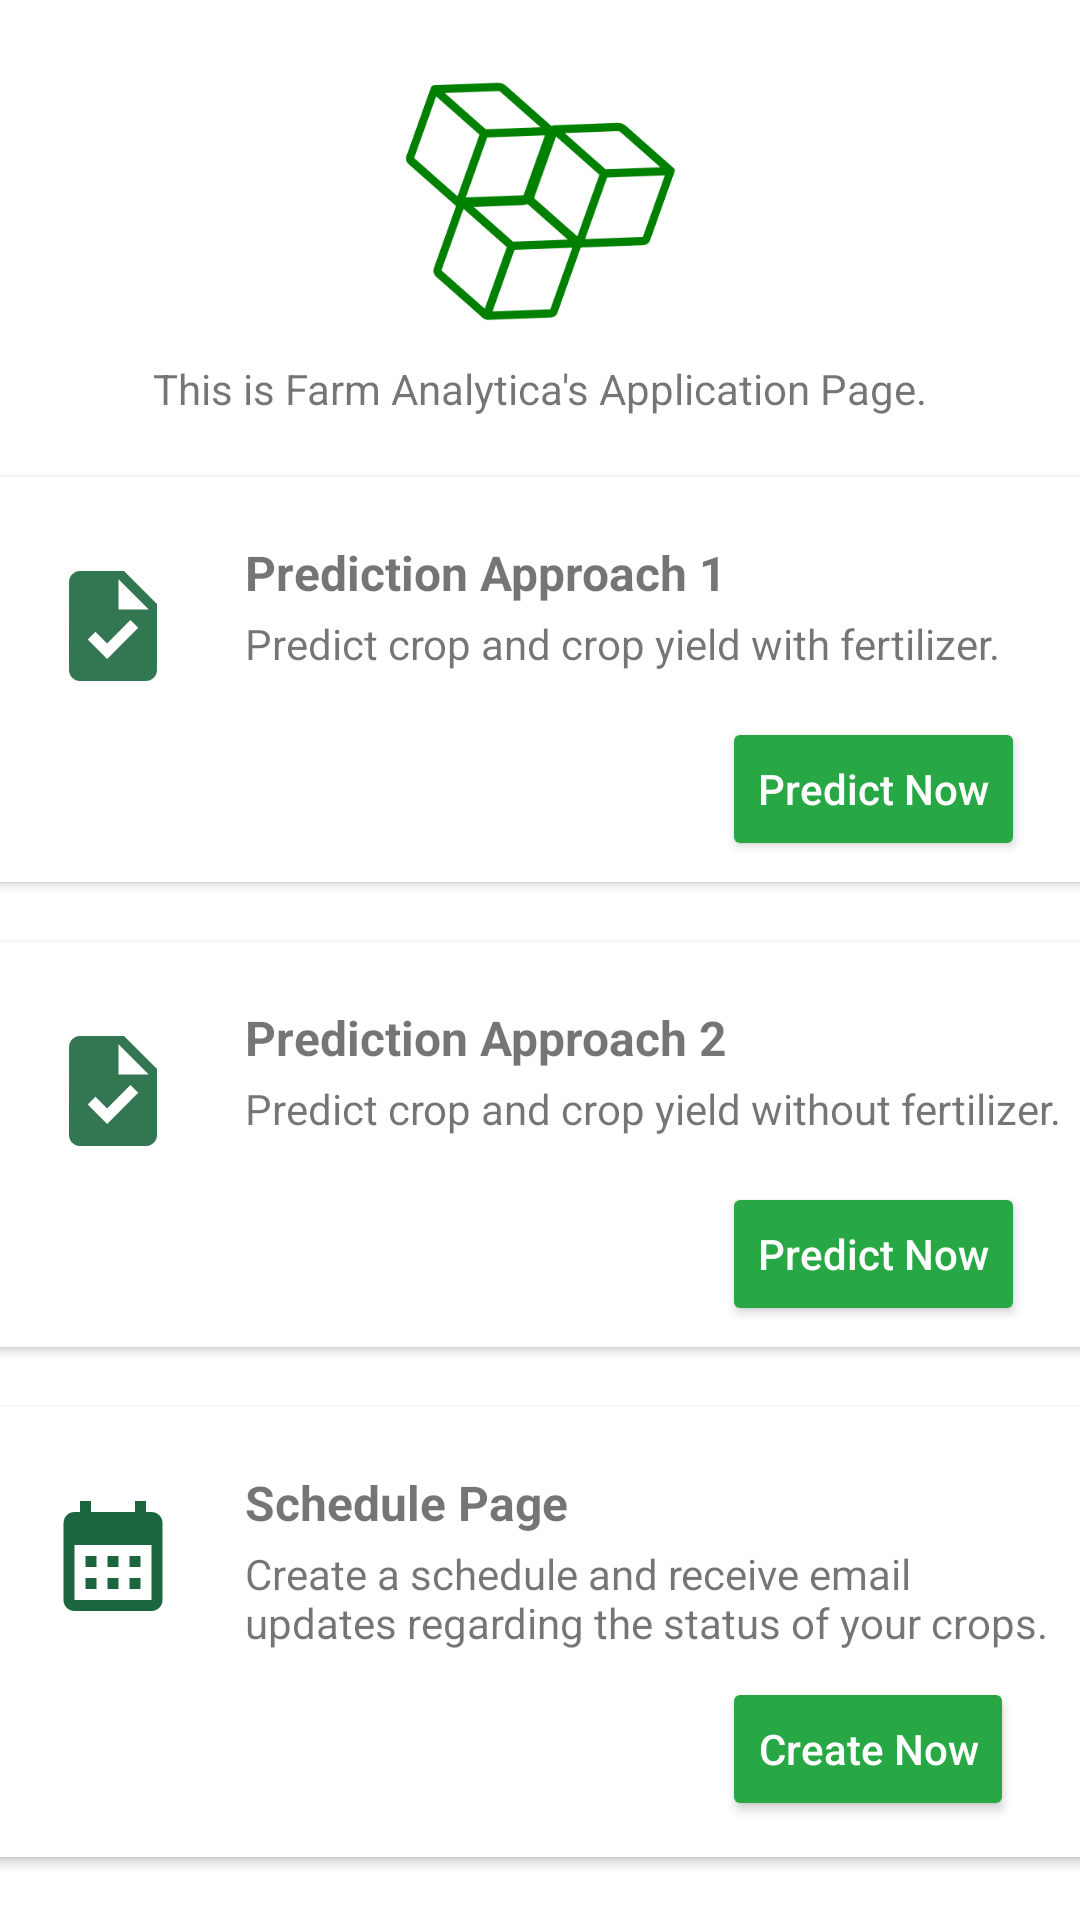

Locate icon controls on the screen. Image size 1080 × 1920, boxes as (x1, y1, x2, y2).
cubes: (405, 82, 675, 320)
